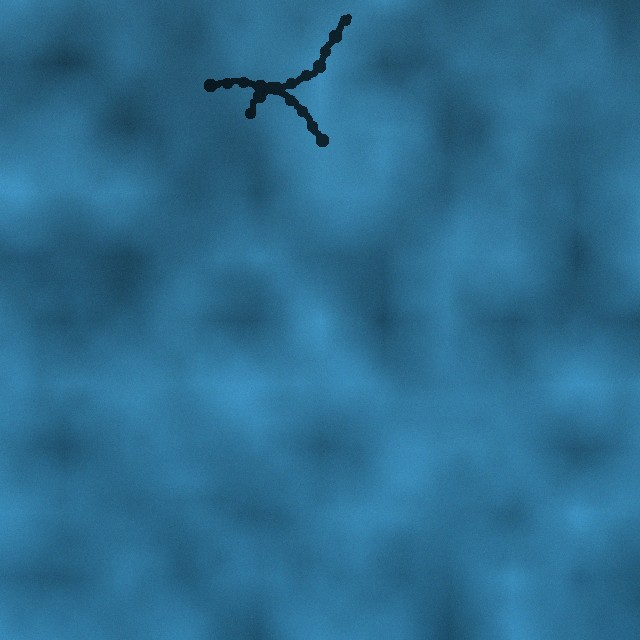crack: (244, 10, 355, 119), (204, 75, 328, 146)
